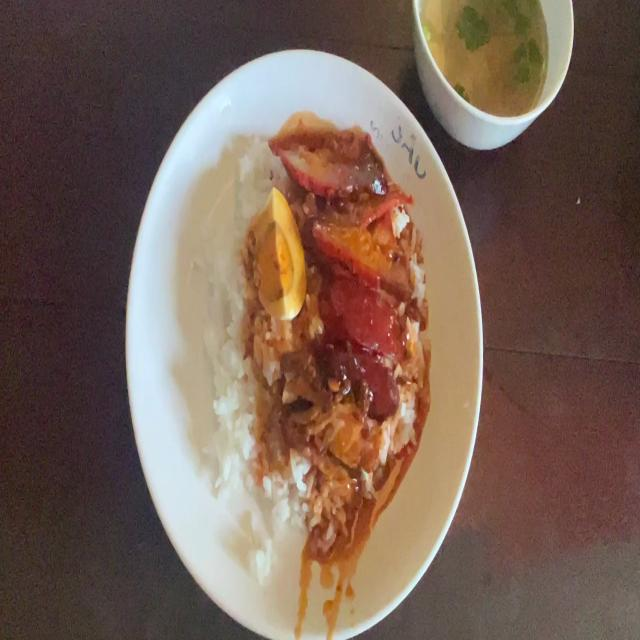red_pork_and_crispy_pork: (257, 191, 299, 318)
stir_fried_basil: (322, 284, 404, 403), (328, 279, 399, 344), (329, 353, 394, 409)
